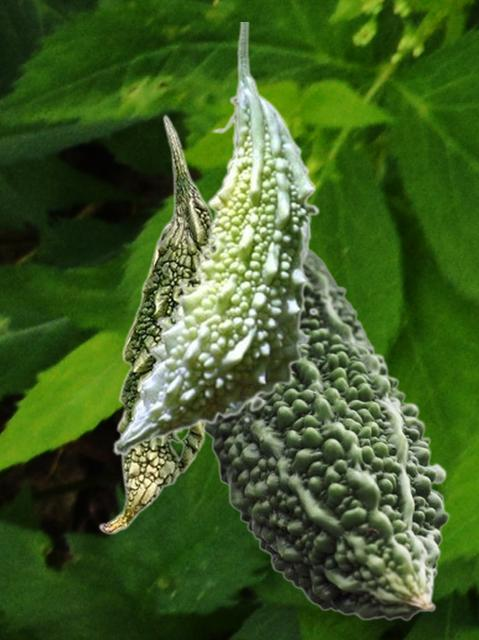ampalaya: (207, 248, 449, 620), (112, 22, 319, 455), (98, 113, 212, 533)
